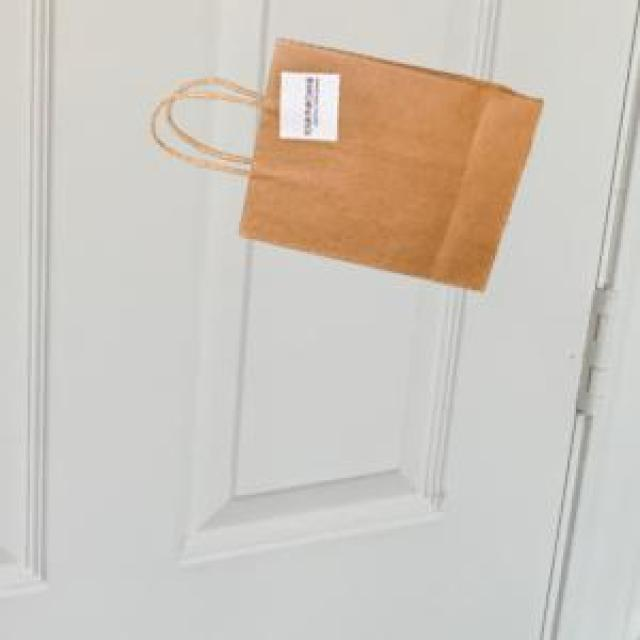PaperCardboard: (233, 37, 543, 292)
